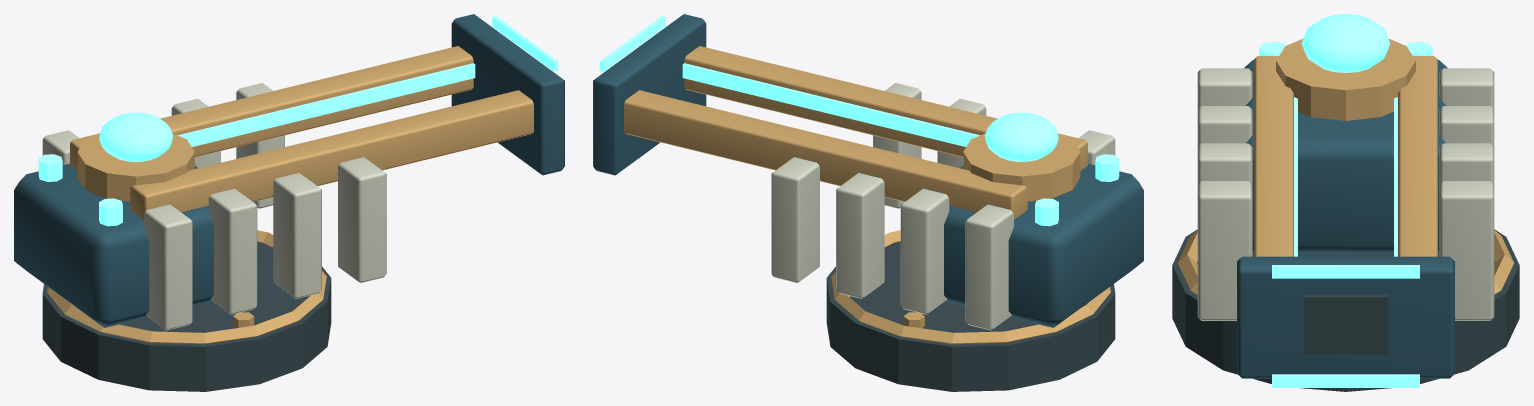
File: module-rail.glb
3 renders of one model, left to right at view 1: azimuth 30°, elevation 25°; view 2: azimuth 150°, elevation 25°; view 3: azimuth 270°, elevation 25°, orthographic. The views are drawn at different scales.
Visible parts, largest first — view 1: module-rail / Fittings | worn maritime brass, module-rail / Hull | Prussian enamel, module-rail / Insulator | warm porcelain, module-rail / Hull | charcoal iron, module-rail / Lamp | charged glacial blue; view 2: module-rail / Fittings | worn maritime brass, module-rail / Hull | Prussian enamel, module-rail / Insulator | warm porcelain, module-rail / Hull | charcoal iron, module-rail / Lamp | charged glacial blue; view 3: module-rail / Hull | Prussian enamel, module-rail / Insulator | warm porcelain, module-rail / Fittings | worn maritime brass, module-rail / Hull | charcoal iron, module-rail / Lamp | charged glacial blue.
Boxes of the visible parts, x1,y1,x2,y2 form: module-rail / Fittings | worn maritime brass: (47,46,533,344); module-rail / Hull | Prussian enamel: (14,14,564,327); module-rail / Insulator | warm porcelain: (42,83,386,330); module-rail / Hull | charcoal iron: (42,242,331,391); module-rail / Lamp | charged glacial blue: (38,16,558,226); module-rail / Fittings | worn maritime brass: (624,46,1110,344); module-rail / Hull | Prussian enamel: (593,14,1143,327); module-rail / Insulator | warm porcelain: (771,83,1115,330); module-rail / Hull | charcoal iron: (826,242,1115,391); module-rail / Lamp | charged glacial blue: (599,16,1119,226); module-rail / Hull | Prussian enamel: (1237,60,1454,378); module-rail / Insulator | warm porcelain: (1197,68,1494,320); module-rail / Fittings | worn maritime brass: (1178,39,1513,294); module-rail / Hull | charcoal iron: (1172,229,1519,391); module-rail / Lamp | charged glacial blue: (1259,14,1432,387).
Bounding box in the file's own units: 3.08 × 1.4 × 1.64.
